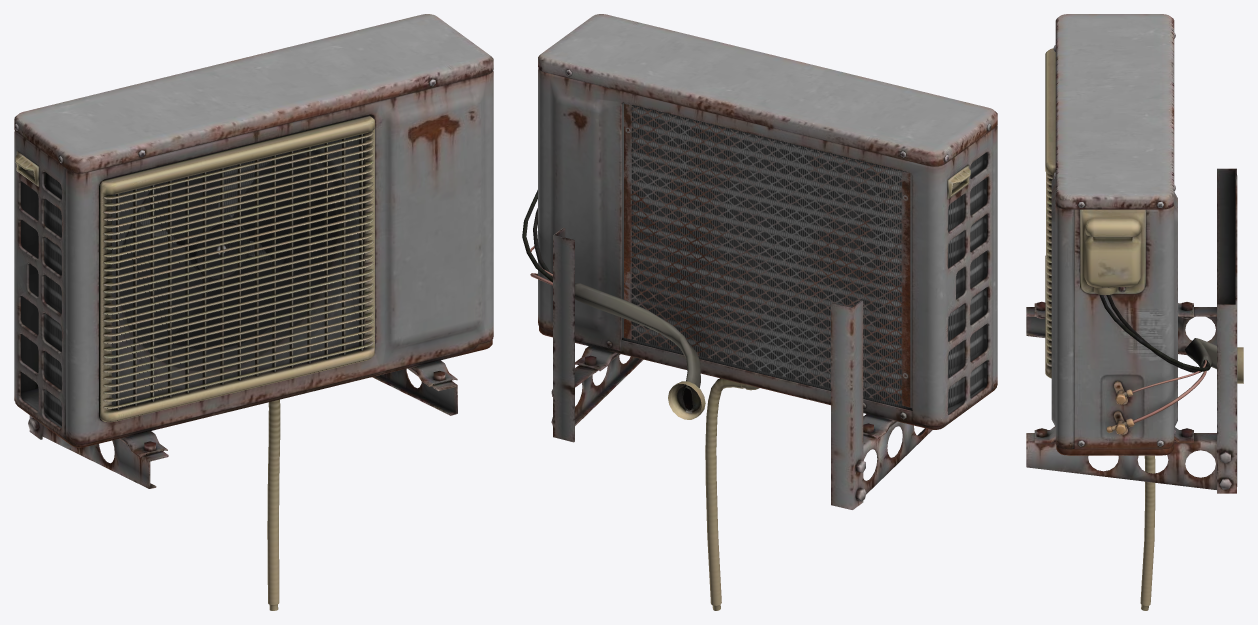
The model's file is aircon.glb.
3 renders of one model, left to right at view 1: azimuth 30°, elevation 25°; view 2: azimuth 150°, elevation 25°; view 3: azimuth 270°, elevation 25°, orthographic. The views are drawn at different scales.
Visible parts, largest first — view 1: exterior_aircon_unit_rusted; view 2: exterior_aircon_unit_rusted; view 3: exterior_aircon_unit_rusted.
Part boxes in pixels (x1,y1,x2,y2): exterior_aircon_unit_rusted: [14, 14, 493, 610]; exterior_aircon_unit_rusted: [522, 14, 997, 610]; exterior_aircon_unit_rusted: [1026, 14, 1243, 610].
Bounding box in the file's own units: 0.8 × 0.9279 × 0.3742.
Materials: 2 (2 with a texture image).
